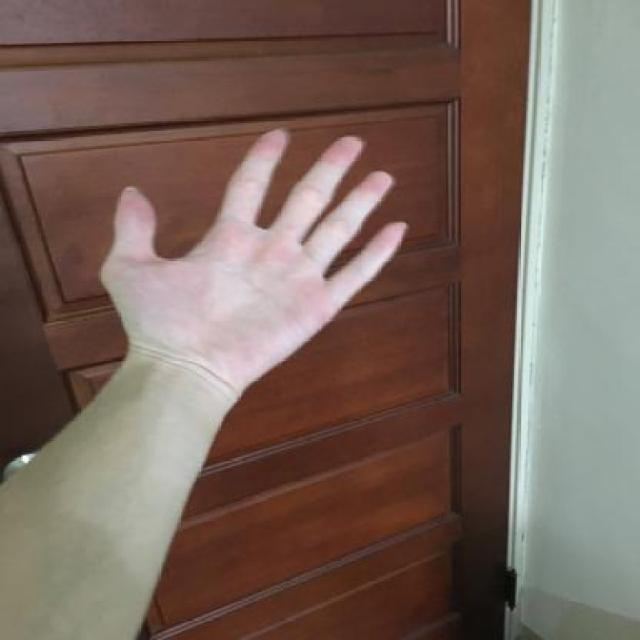bare_hand: (88, 116, 416, 409)
